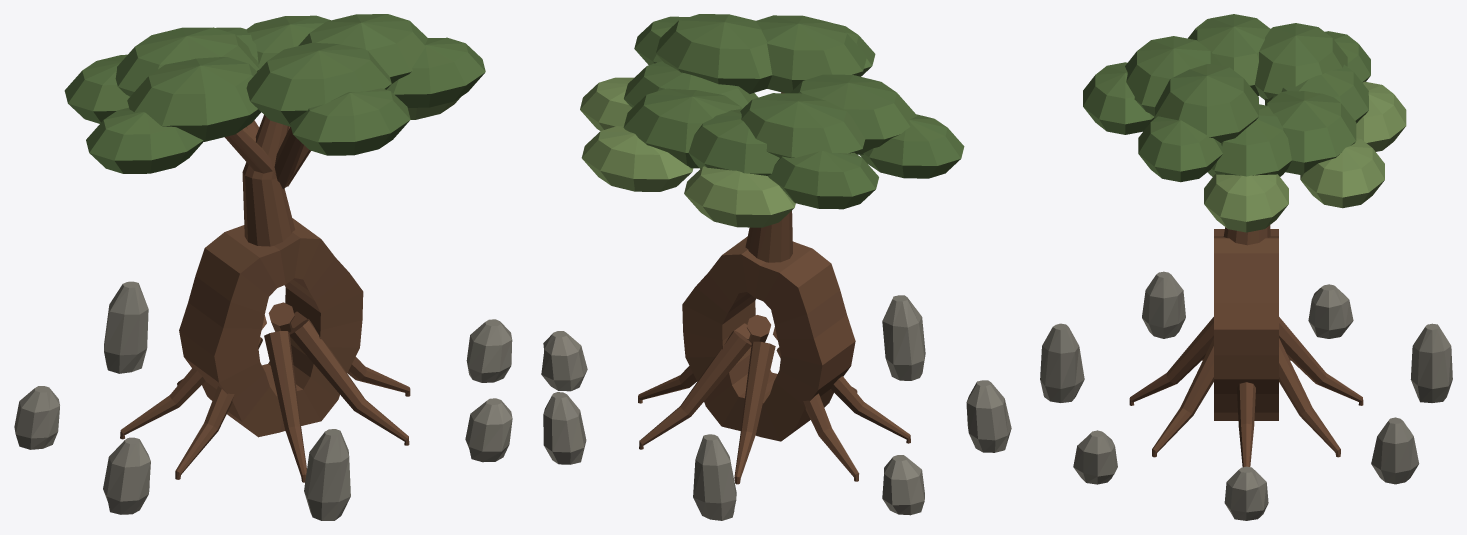
The model's file is Environment_Landmark_OldTreeCircle_001.glb.
The picture shows the model from 3 angles, left to right: view 1: azimuth 30°, elevation 25°; view 2: azimuth 150°, elevation 25°; view 3: azimuth 270°, elevation 25°; orthographic projection. The views are drawn at different scales.
Visible parts, largest first — view 1: Environment_Landmark_OldTreeCircle_001; view 2: Environment_Landmark_OldTreeCircle_001; view 3: Environment_Landmark_OldTreeCircle_001.
Boxes of the visible parts, x1,y1,x2,y2 form: Environment_Landmark_OldTreeCircle_001: (14, 14, 512, 520); Environment_Landmark_OldTreeCircle_001: (541, 14, 1011, 520); Environment_Landmark_OldTreeCircle_001: (1040, 14, 1452, 520).
Bounding box in the file's own units: 11.81 × 10.15 × 10.19.
